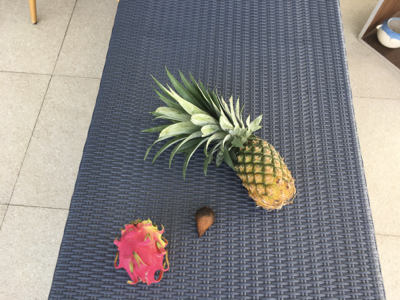dragon fruit: (113, 219, 170, 286)
pineapple: (141, 68, 296, 213)
snake fruit: (197, 209, 216, 241)
